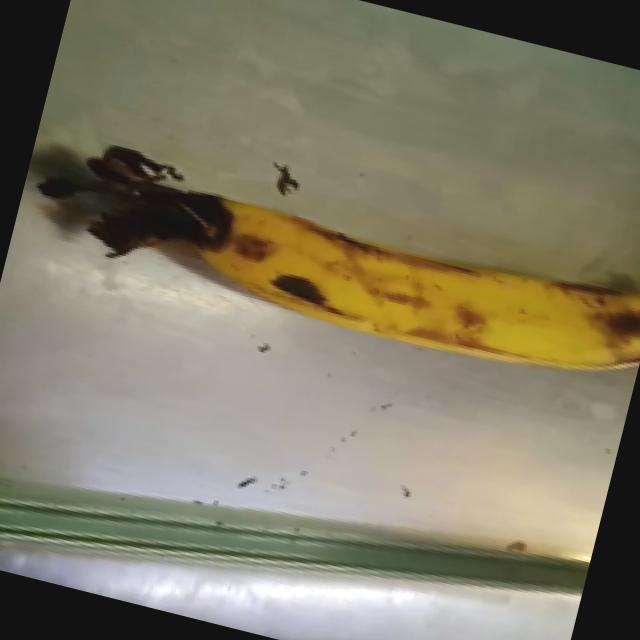Rotten_Banana: (12, 104, 640, 421)
